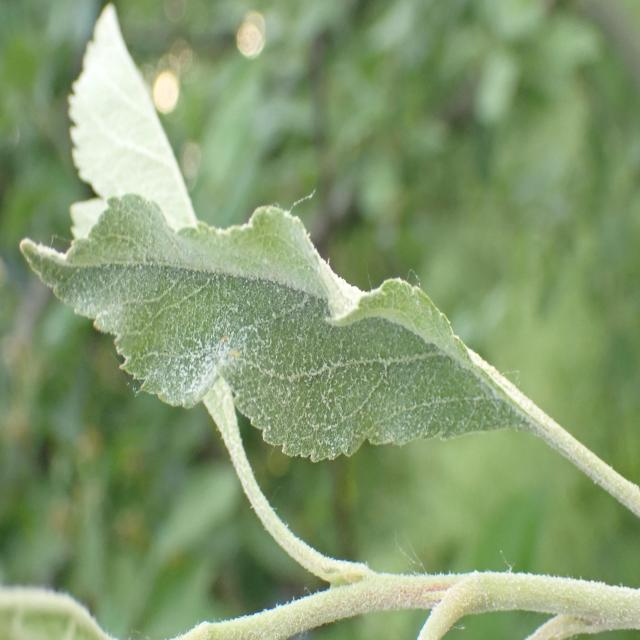Powdery_mildew: (25, 0, 532, 455)
